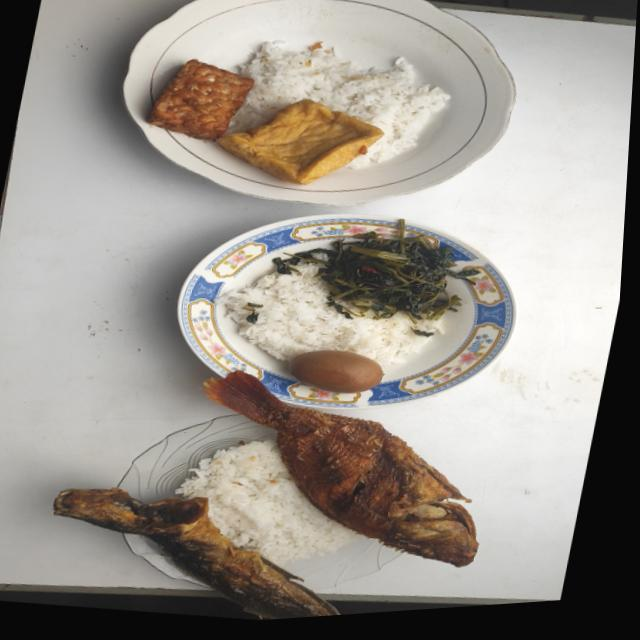ikan_mujair: (205, 372, 478, 567)
nasi_putih: (228, 41, 449, 170), (176, 439, 356, 564), (220, 262, 432, 366)
tahu_goreng: (219, 100, 384, 184)
tempe_goreng: (148, 60, 254, 142)
tumis_kangkung: (274, 221, 478, 324)
